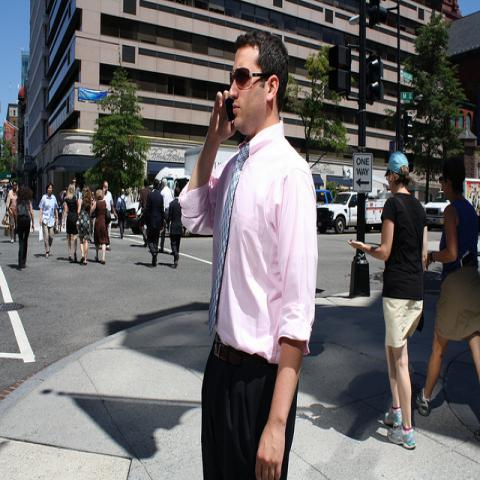car: (126, 186, 154, 234), (315, 187, 333, 204)
truck: (423, 176, 479, 234), (317, 192, 387, 234), (155, 166, 194, 201), (184, 147, 238, 171)
